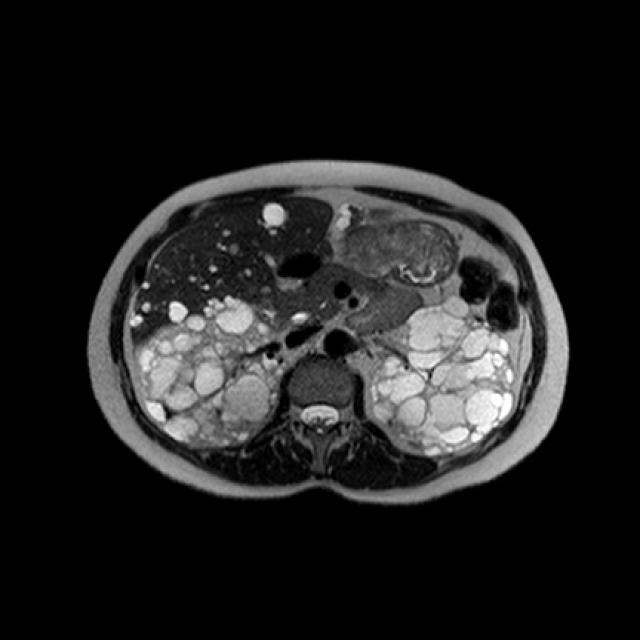sag: (137, 297, 283, 446)
sol: (373, 295, 515, 454)
